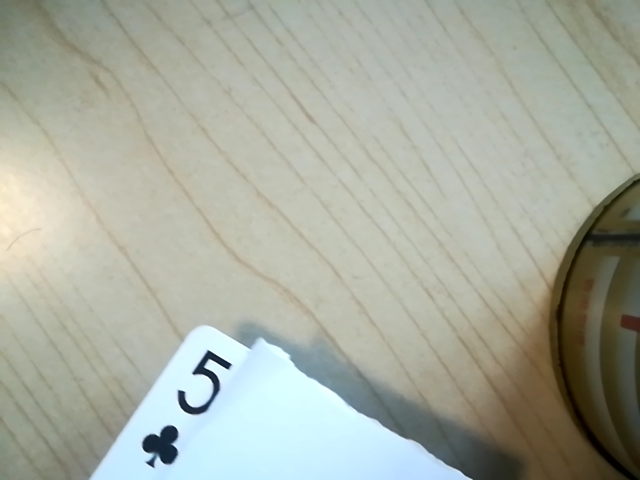mh 5: (135, 346, 237, 473)
